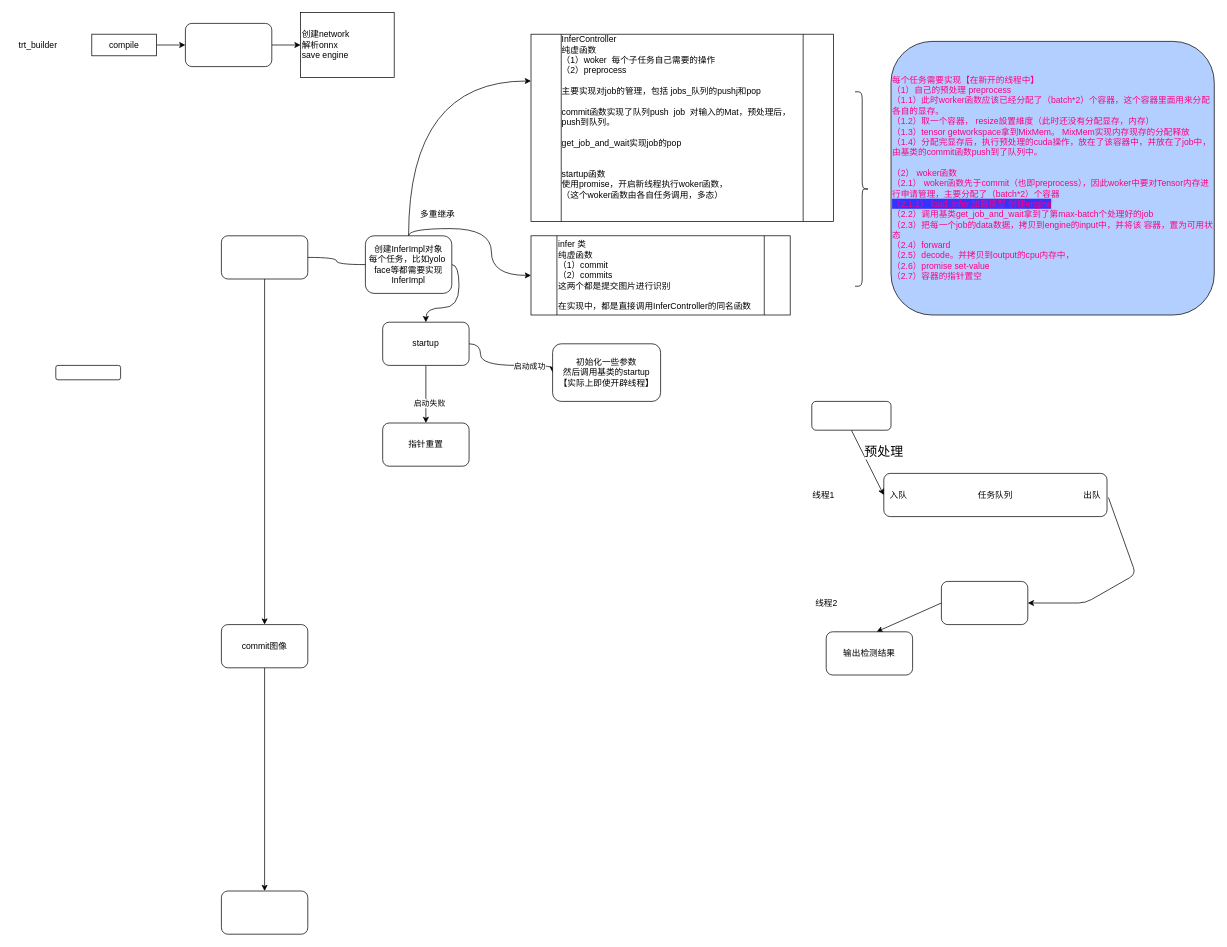
Image size: 1227x947. Some labels were removed from this diagram. The shapes that lost their labels are listed below. From the top down, each one's centre as x and y in pixels, then its label:
At point 228,45: "基本的流程".
At point 264,257: "create-infer".
At point 88,372: "infer".
At point 851,415: "输入图像".
At point 984,603: "forward".
At point 264,912: "画图".
